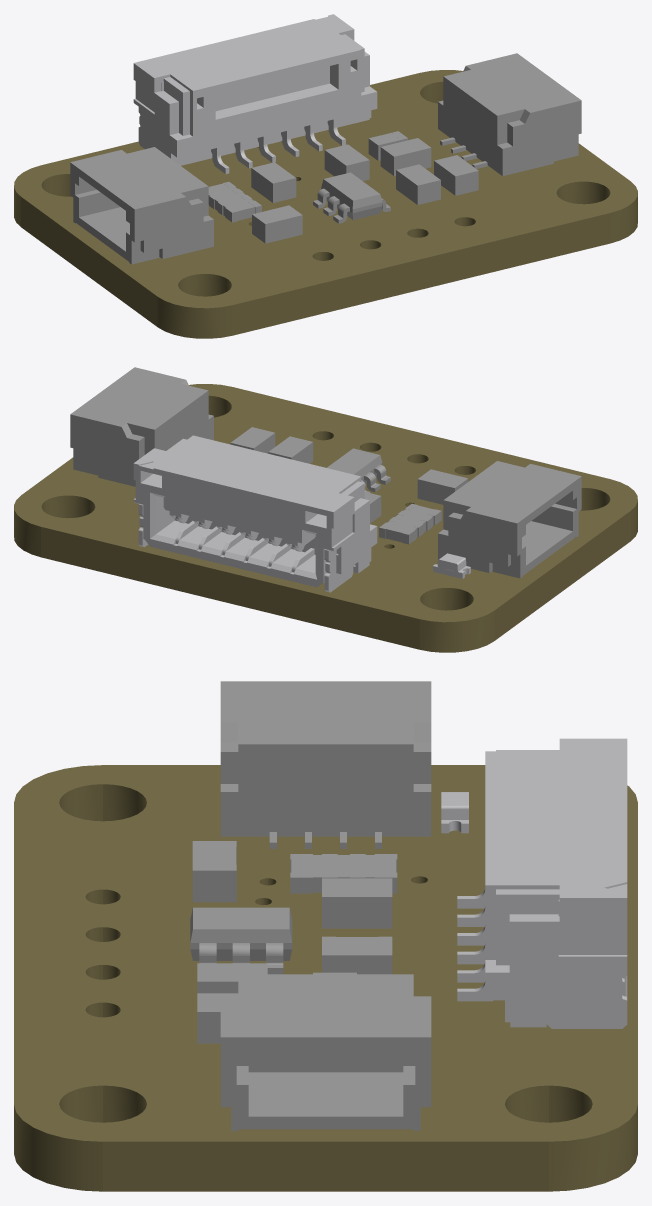
File: ada-5964.glb
3 renders of one model, top to bottom at view 1: azimuth 30°, elevation 25°; view 2: azimuth 150°, elevation 25°; view 3: azimuth 270°, elevation 25°, orthographic. The views are drawn at different scales.
Parts seen in each view (by area): view 1: 0.16666666666666666_0.16666666666666666_0.08333333333333333_, 0.3333333333333333_0.3333333333333333_0.3333333333333333_0, 0.5833333333333334_0.5833333333333334_0.5833333333333334_0.8; view 2: 0.16666666666666666_0.16666666666666666_0.08333333333333333_, 0.3333333333333333_0.3333333333333333_0.3333333333333333_0, 0.5833333333333334_0.5833333333333334_0.5833333333333334_0.8; view 3: 0.16666666666666666_0.16666666666666666_0.08333333333333333_, 0.3333333333333333_0.3333333333333333_0.3333333333333333_0, 0.5833333333333334_0.5833333333333334_0.5833333333333334_0.8.
Boxes of the visible parts, <box> form: 0.16666666666666666_0.16666666666666666_0.08333333333333333_: <box>14,70,637,338</box>; 0.3333333333333333_0.3333333333333333_0.3333333333333333_0: <box>70,53,581,264</box>; 0.5833333333333334_0.5833333333333334_0.5833333333333334_0.8: <box>133,14,377,173</box>; 0.16666666666666666_0.16666666666666666_0.08333333333333333_: <box>14,384,637,652</box>; 0.3333333333333333_0.3333333333333333_0.3333333333333333_0: <box>70,367,581,578</box>; 0.5833333333333334_0.5833333333333334_0.5833333333333334_0.8: <box>133,435,470,592</box>; 0.16666666666666666_0.16666666666666666_0.08333333333333333_: <box>14,765,637,1191</box>; 0.3333333333333333_0.3333333333333333_0.3333333333333333_0: <box>190,681,431,1130</box>; 0.5833333333333334_0.5833333333333334_0.5833333333333334_0.8: <box>441,738,627,1028</box>.
Size of the model in its own units: 2.54 by 0.582 by 1.78.
